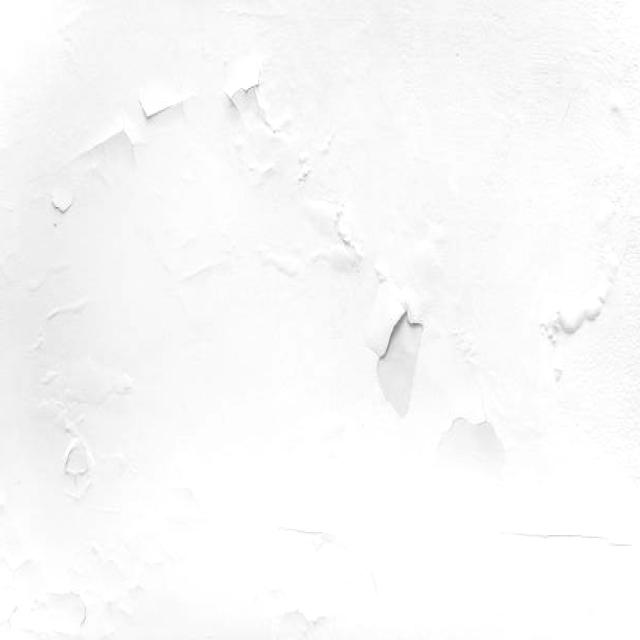peeling paint: (31, 61, 526, 491)
